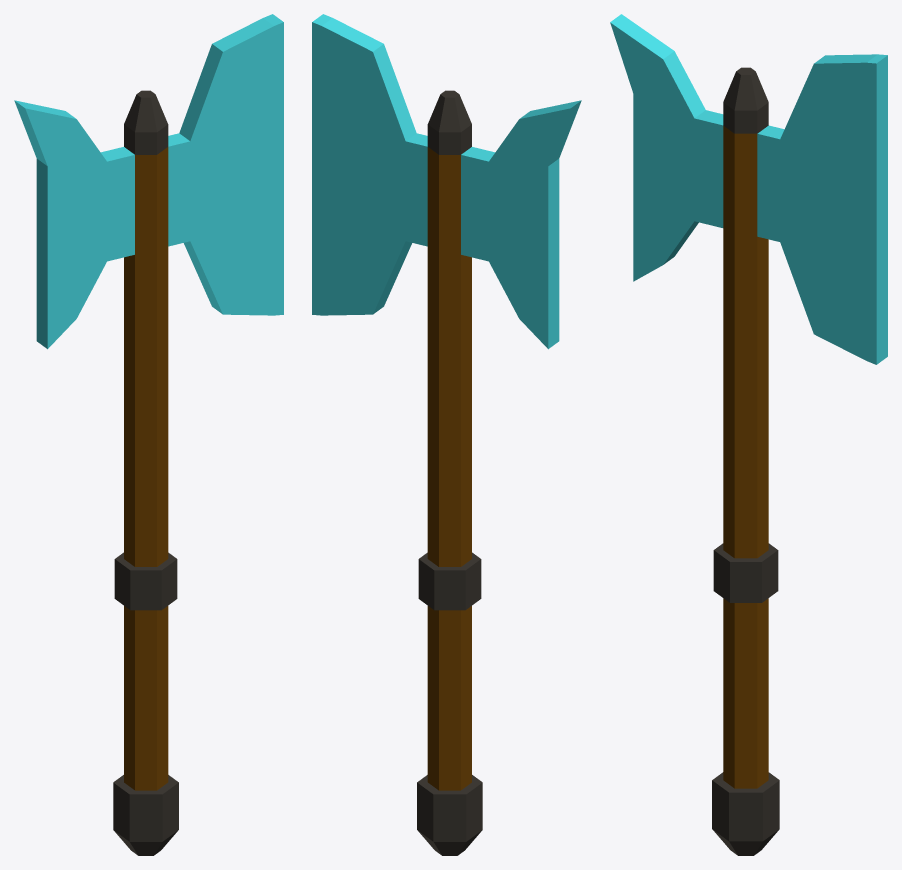
File: axe.obj
The picture shows the model from 3 angles, left to right: view 1: azimuth 30°, elevation 25°; view 2: azimuth 150°, elevation 25°; view 3: azimuth 330°, elevation 25°; orthographic projection. The views are drawn at different scales.
Parts seen in each view (by area): view 1: Cylinder.002; view 2: Cylinder.002; view 3: Cylinder.002.
Part boxes in pixels (x1,y1,x2,y2): Cylinder.002: (14, 14, 283, 855); Cylinder.002: (312, 14, 581, 855); Cylinder.002: (610, 14, 887, 855).
Bounding box in the file's own units: 2.4 × 7.11 × 0.5291.
1 material, 1 textured.
